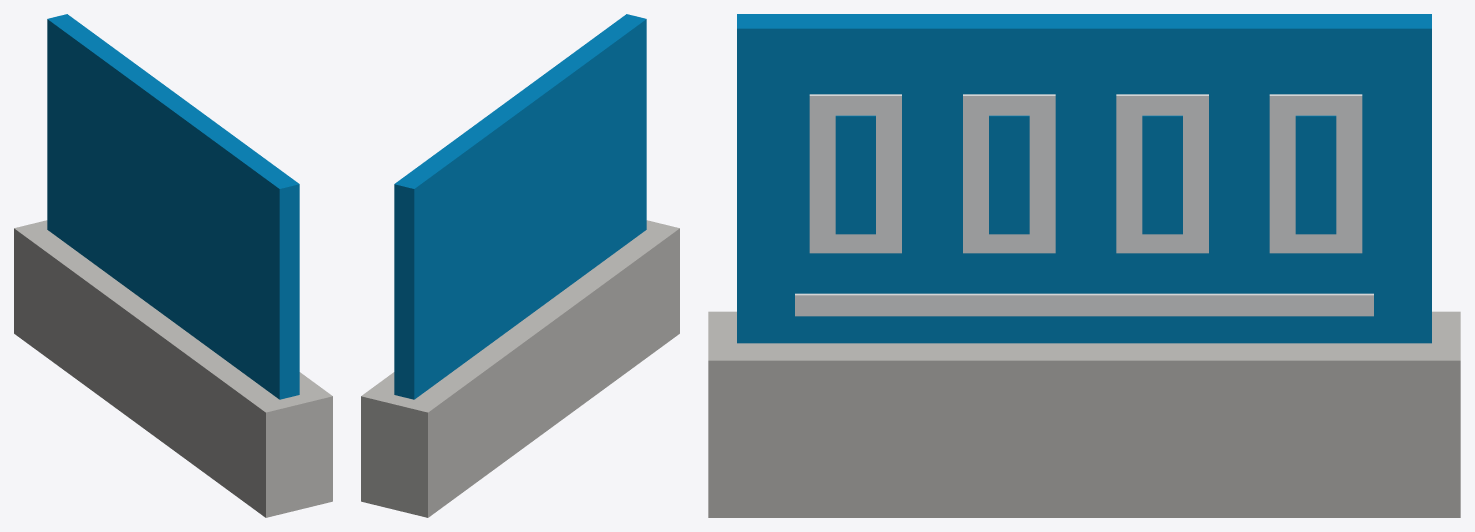
The model's file is SM_Prop_NTNUSign.glb.
The picture shows the model from 3 angles, left to right: view 1: azimuth 30°, elevation 25°; view 2: azimuth 150°, elevation 25°; view 3: azimuth 270°, elevation 25°; orthographic projection. The views are drawn at different scales.
Visible parts, largest first — view 1: SM_Prop_NTNUSign; view 2: SM_Prop_NTNUSign; view 3: SM_Prop_NTNUSign.
Boxes of the visible parts, box(x1,y1,x2,y2) form: SM_Prop_NTNUSign: box(14, 14, 332, 517); SM_Prop_NTNUSign: box(361, 14, 679, 517); SM_Prop_NTNUSign: box(708, 14, 1460, 517).
Bounding box in the file's own units: 0.4 × 1.8 × 2.6.
